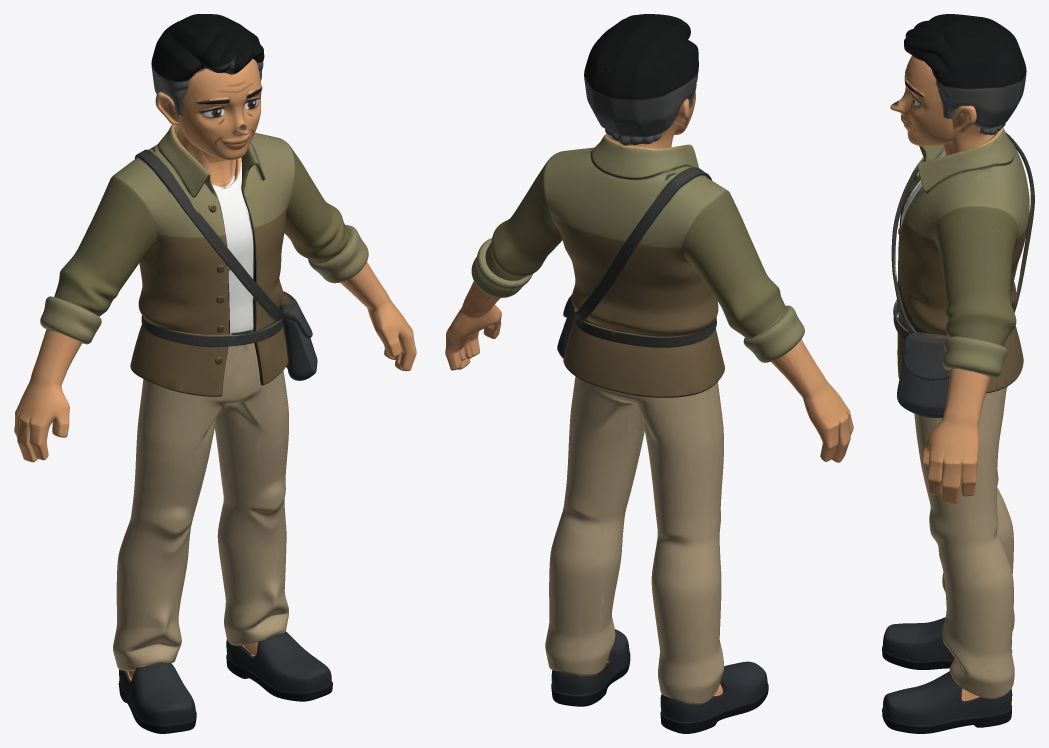
File: Warga_Laki_Original.glb
The picture shows the model from 3 angles, left to right: view 1: azimuth 30°, elevation 25°; view 2: azimuth 150°, elevation 25°; view 3: azimuth 270°, elevation 25°; orthographic projection.
Parts seen in each view (by area): view 1: Warga_Laki_Meshy; view 2: Warga_Laki_Meshy; view 3: Warga_Laki_Meshy.
Part boxes in pixels (x1,y1,x2,y2): Warga_Laki_Meshy: (14, 14, 416, 733); Warga_Laki_Meshy: (445, 14, 853, 733); Warga_Laki_Meshy: (882, 14, 1034, 733).
Size of the model in its own units: 1.07 by 1.75 by 0.3618.
Materials: 1 (1 with a texture image).
